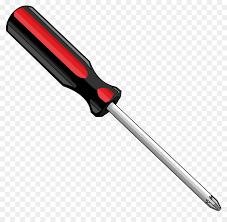screwdriver: (4, 3, 222, 212)
